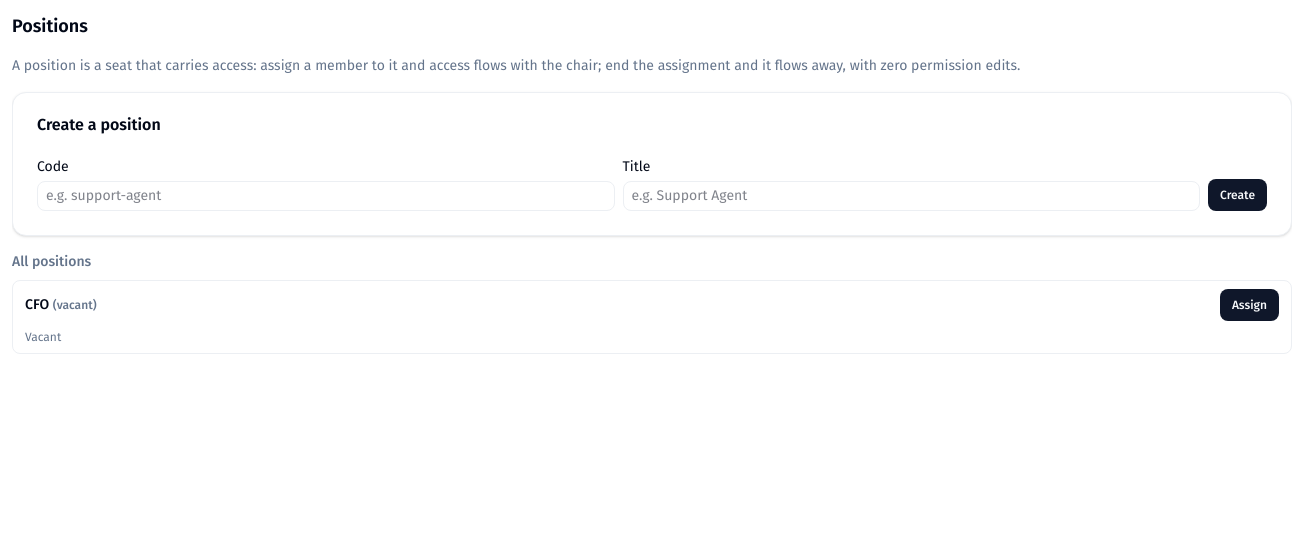
it: AdminPositionsPage › assigns a member to a vacant position through the picker
Click the button with test id "admin-position-assign-p2" at (1249, 305), box [1220,289,1279,321]
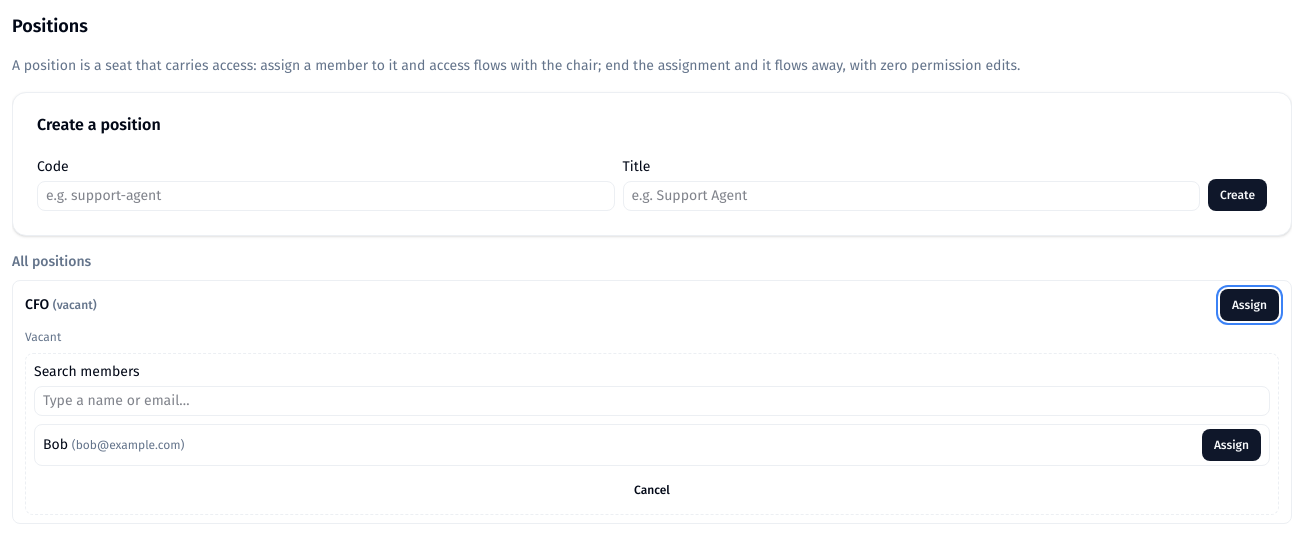
Expected: the list with test id "admin-position-member-results-p2" is shown, [34,424,1270,466]
Expected: the button with test id "admin-position-assign-member-p2-m2" is shown
Click the button with test id "admin-position-assign-member-p2-m2" at (1231, 445), box [1202,429,1261,461]
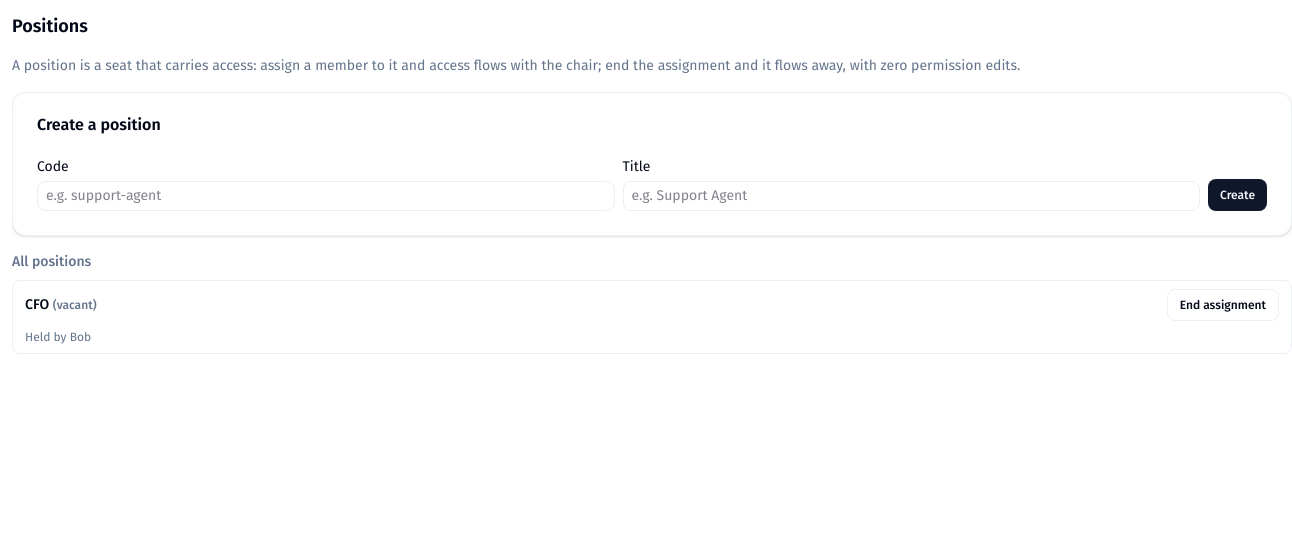
Expected: the text with test id "admin-position-holder-p2" reads "Held by Bob", [25,330,91,344]
